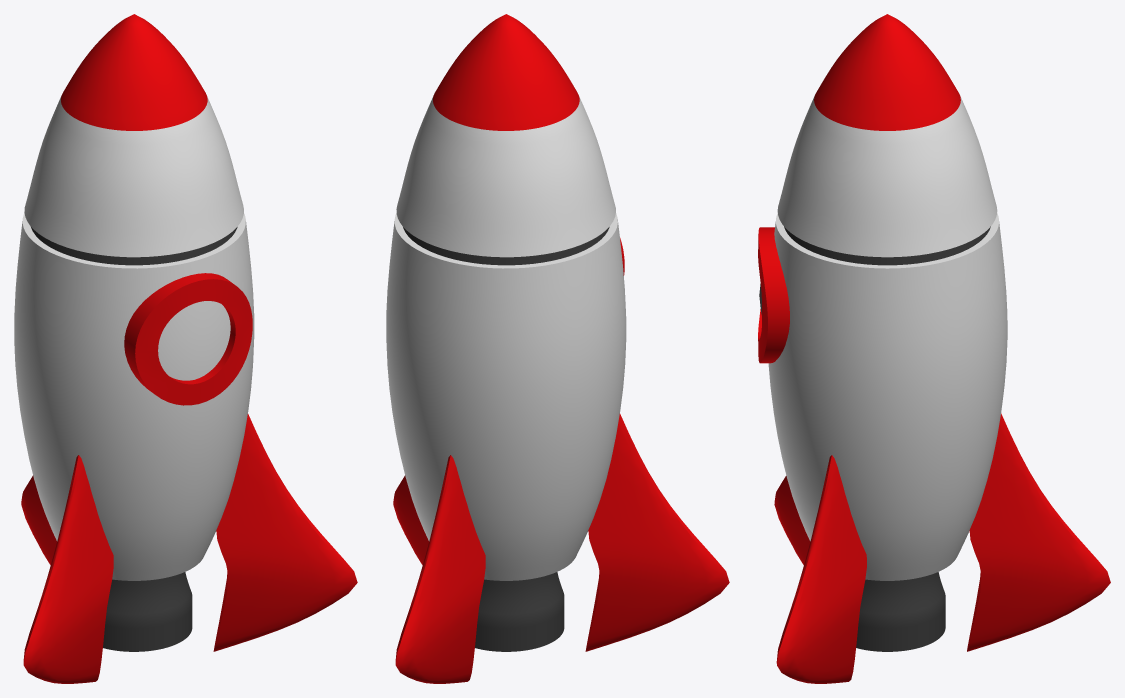
The model's file is WebsiteRocket.glb.
3 views of the same model, side by side, from view 1: azimuth 30°, elevation 25°; view 2: azimuth 150°, elevation 25°; view 3: azimuth 270°, elevation 25° (orthographic).
Parts seen in each view (by area): view 1: RocketV1; view 2: RocketV1; view 3: RocketV1.
Part boxes in pixels (box(x1,y1,x2,y2)): RocketV1: box(14, 14, 357, 683); RocketV1: box(386, 14, 729, 683); RocketV1: box(758, 14, 1110, 683).
Size of the model in its own units: 3.08 by 5.6 by 2.81.
